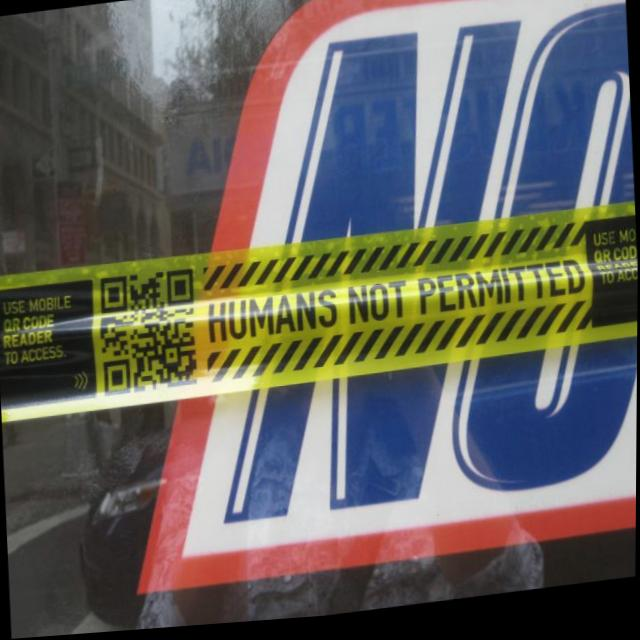qrcode: (101, 271, 200, 400)
